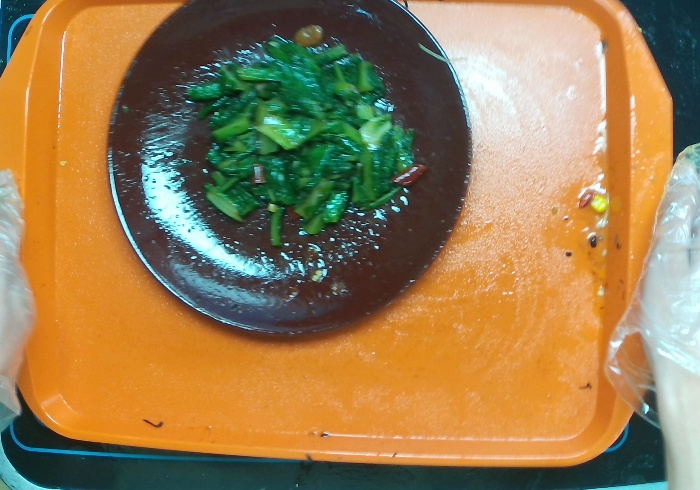HZYJPL-Ka_Fei_Yuan_Pan: (105, 1, 473, 336)
